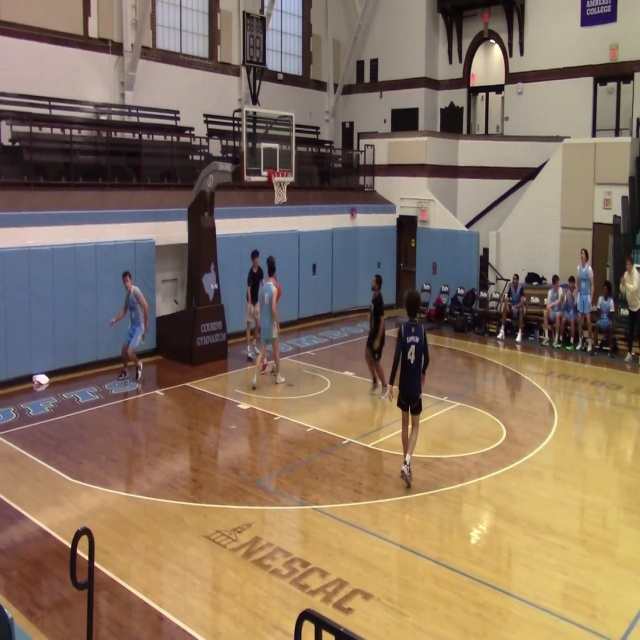Basketball: (404, 289, 421, 311), (32, 374, 49, 391)
